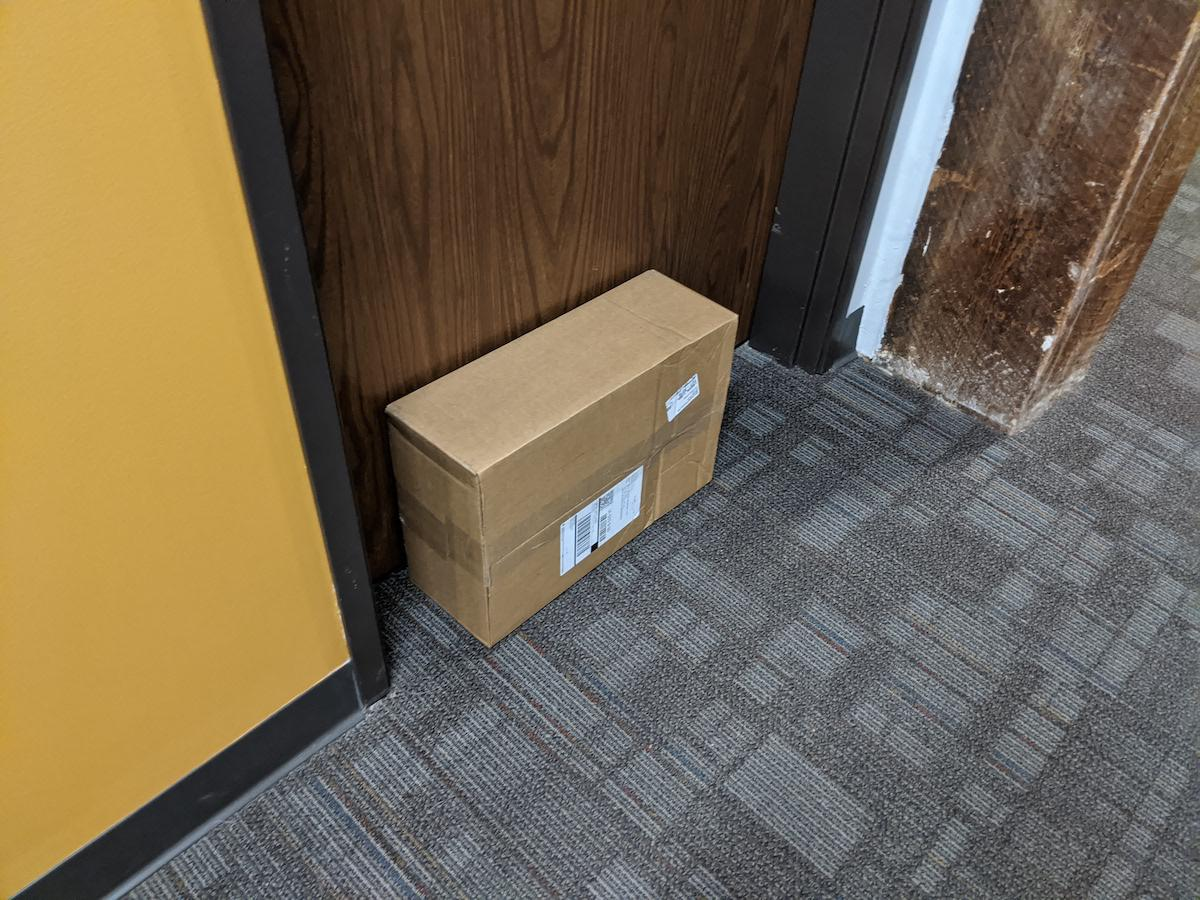package: (377, 258, 745, 655)
